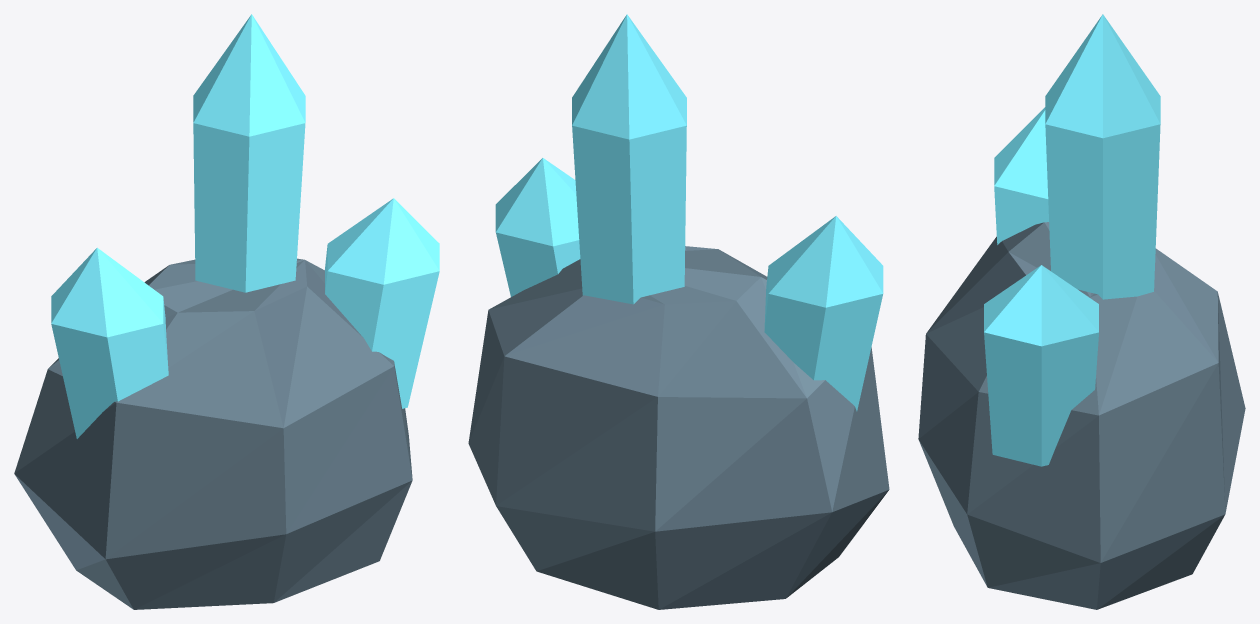
The model's file is crystal_ore.glb.
3 views of the same model, side by side, from view 1: azimuth 30°, elevation 25°; view 2: azimuth 150°, elevation 25°; view 3: azimuth 270°, elevation 25° (orthographic). The views are drawn at different scales.
Parts seen in each view (by area): view 1: geometry, crystals; view 2: geometry, crystals; view 3: geometry, crystals.
Boxes of the visible parts, left/top/right/bottom form: geometry: left=14, top=258, right=412, bottom=609; crystals: left=51, top=14, right=439, bottom=438; geometry: left=468, top=246, right=889, bottom=609; crystals: left=495, top=14, right=883, bottom=411; geometry: left=918, top=222, right=1245, bottom=609; crystals: left=984, top=14, right=1160, bottom=466.
Size of the model in its own units: 0.4446 by 0.58 by 0.3197.
